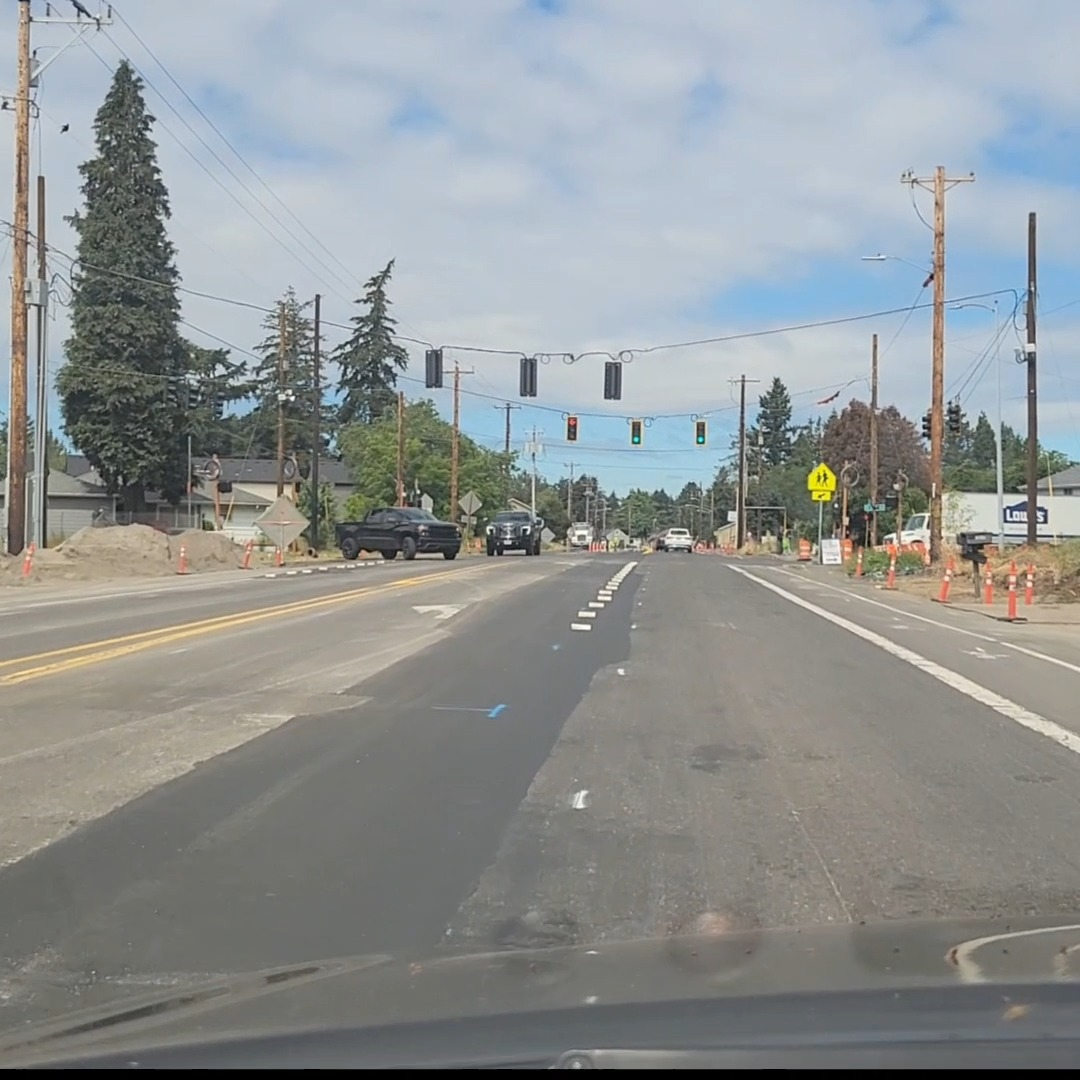car: (332, 506, 461, 560), (483, 509, 545, 555), (651, 527, 693, 552)
crosswalk-sign: (807, 462, 835, 499)
delineator: (992, 565, 1024, 619), (936, 559, 953, 603), (1023, 565, 1035, 605), (983, 563, 994, 604), (22, 542, 35, 576), (239, 539, 254, 568), (176, 544, 189, 573), (854, 546, 864, 576), (946, 553, 957, 574), (275, 545, 284, 566), (898, 542, 909, 557)
